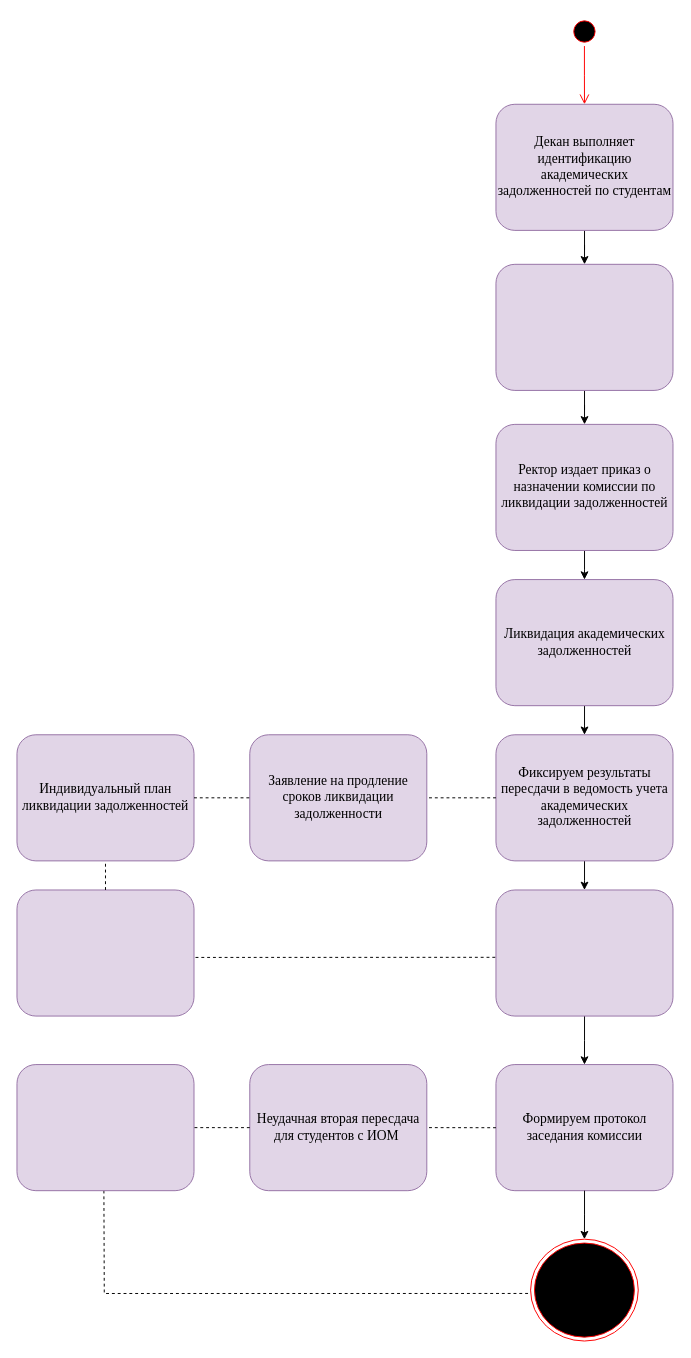
The diagram is 691 pixels wide and 1358 high, and some of its shapes have lost their labels. The box of each missing label's shape, as (x1, y1, x2, y2) in pixels:
Ведомость учета задолженностей для студентов с ИОМ: (16, 889, 194, 1016)
Заведующий кафедры заполняет данные по студентам для направления на пересдачу: (495, 263, 673, 390)
Приказ об отчислении: (16, 1064, 194, 1191)
Составляются рекомендации по студентам: (495, 889, 673, 1016)
